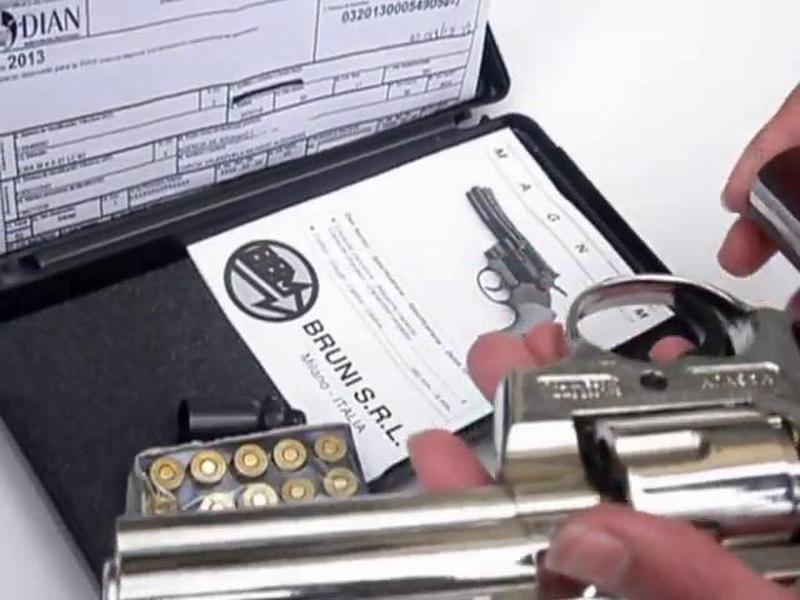Revolver: (94, 226, 800, 576)
